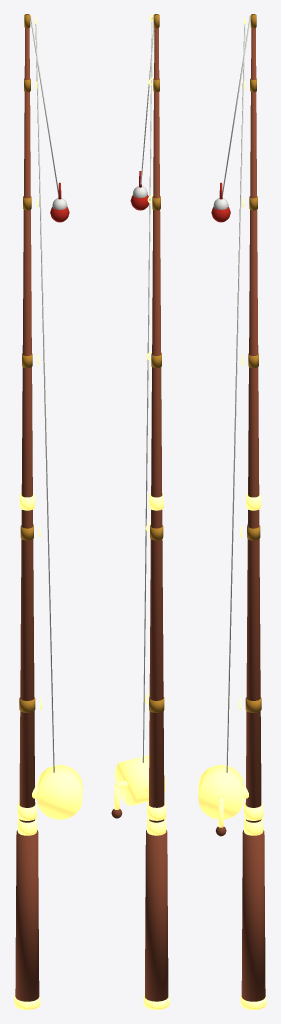
File: angelrute.legendaer.glb
The picture shows the model from 3 angles, left to right: view 1: azimuth 90°, elevation 25°; view 2: azimuth 210°, elevation 25°; view 3: azimuth 270°, elevation 25°; orthographic projection.
Parts seen in each view (by area): view 1: angelrute; view 2: angelrute; view 3: angelrute.
Boxes of the visible parts, left/top/right/bottom form: angelrute: left=14, top=14, right=82, bottom=1009; angelrute: left=111, top=14, right=169, bottom=1009; angelrute: left=198, top=14, right=266, bottom=1009.
Bounding box in the file's own units: 0.09 × 2.01 × 0.126.
